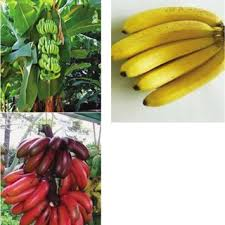looks_good: (111, 2, 225, 131)
